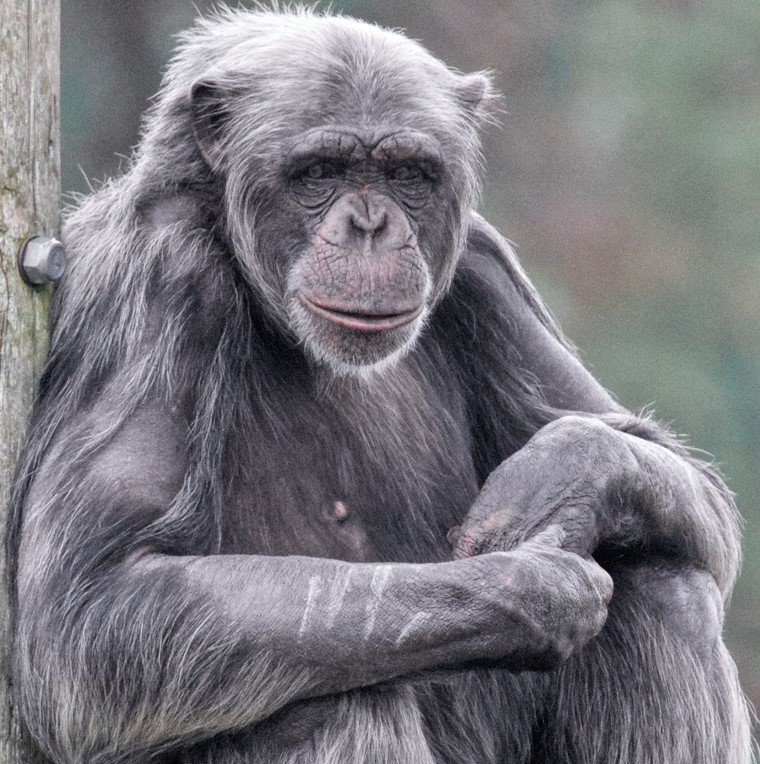Chimpanzee: (57, 1, 734, 755)
